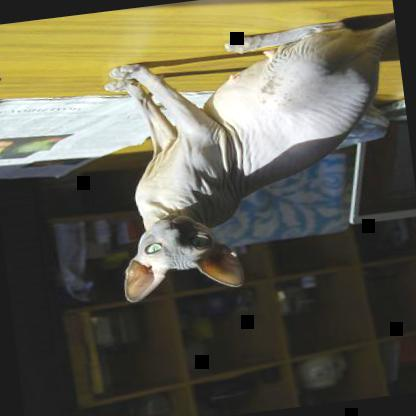cat: (93, 12, 415, 306)
